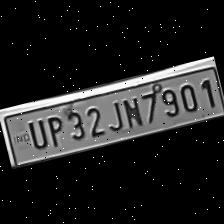0: (172, 78, 200, 114)
1: (192, 72, 218, 108)
2: (78, 100, 106, 138)
3: (58, 104, 85, 142)
7: (134, 88, 160, 124)
9: (154, 83, 180, 120)
J: (98, 96, 124, 132)
N: (115, 92, 143, 130)
P: (40, 110, 66, 148)
U: (20, 114, 47, 150)
